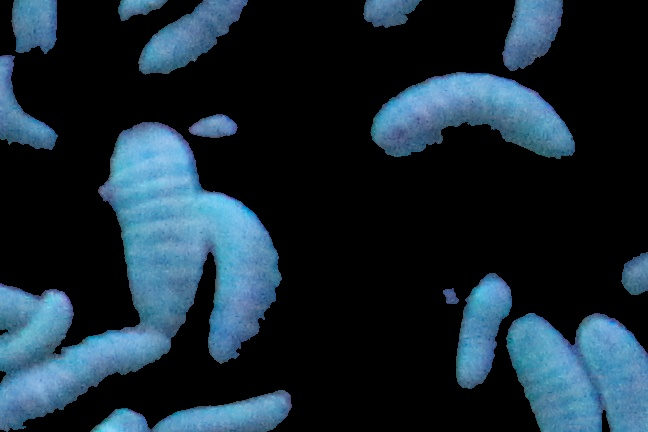larvae: (104, 122, 203, 327), (369, 81, 579, 161), (16, 327, 162, 425), (200, 185, 281, 359), (511, 314, 595, 432), (584, 307, 648, 432), (141, 1, 244, 76), (149, 391, 296, 432), (1, 55, 58, 152), (1, 292, 69, 372), (457, 274, 505, 387), (507, 1, 565, 68), (13, 1, 55, 60), (121, 1, 216, 25), (1, 281, 43, 323)
